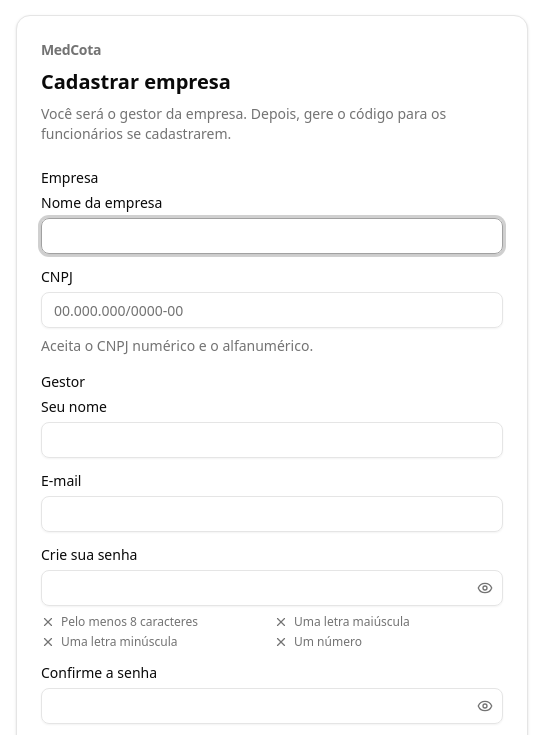
Cadastro de empresa › mostra no campo o erro devolvido pela API (CNPJ já cadastrado)
Type "Distribuidora Teste" into the field labelled "Nome da empresa".
click(272, 236); type("Distribuidora Teste")  # box [41,218,503,254]
Type "11.222.333/0001-81" into the field labelled "CNPJ".
click(272, 310); type("11.222.333/0001-81")  # box [41,292,503,328]
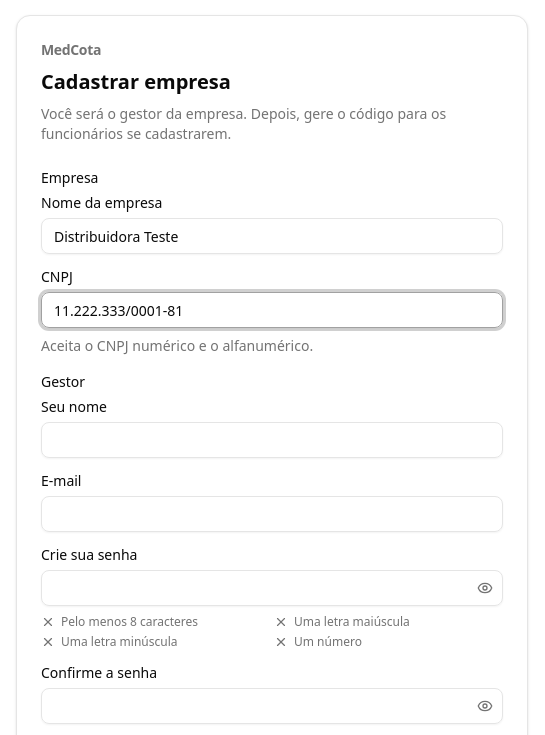
Type "Carla Prado" into the field labelled "Seu nome".
click(272, 440); type("Carla Prado")  # box [41,422,503,458]
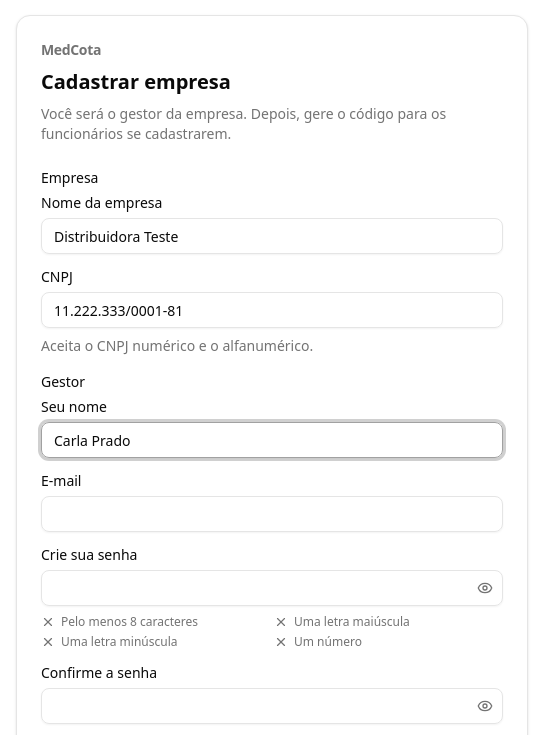
Type "carla@teste.com" into the field labelled "E-mail".
click(272, 514); type("carla@teste.com")  # box [41,496,503,532]
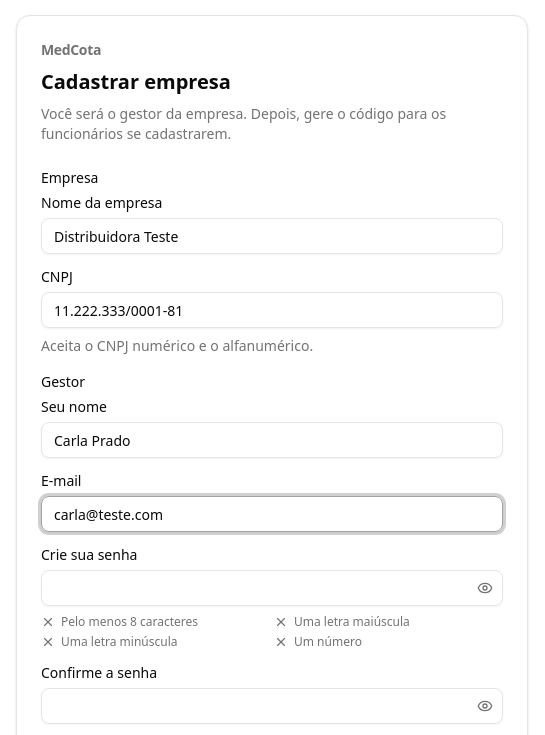
Type "Senha-forte-1" into the password field labelled "Crie sua senha".
click(272, 588); type("Senha-forte-1")  # box [41,570,503,606]
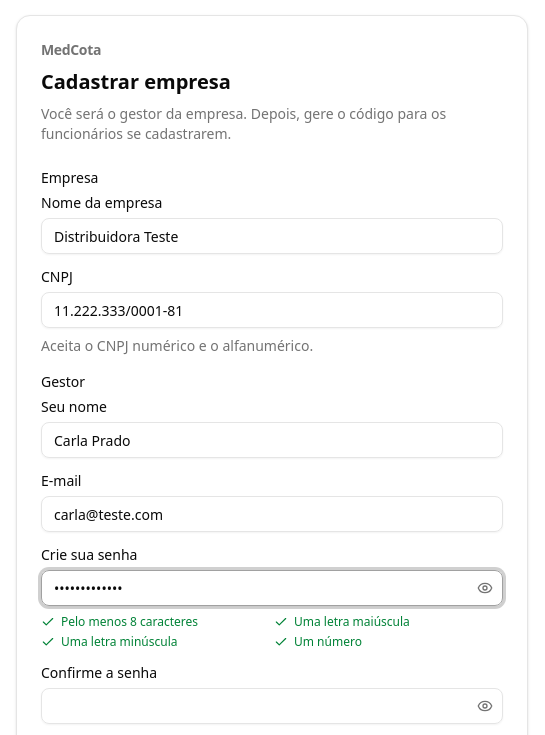
Type "Senha-forte-1" into the password field labelled "Confirme a senha".
click(272, 706); type("Senha-forte-1")  # box [41,688,503,724]
(page scrolled)
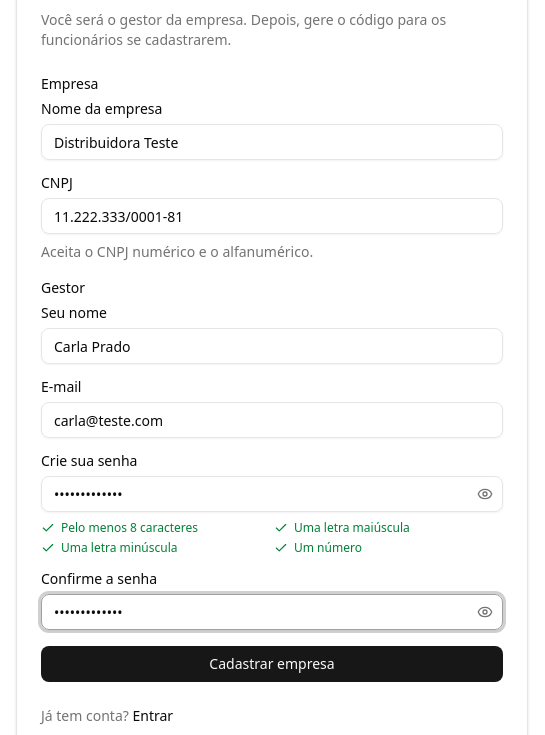
Click the button "Cadastrar empresa".
click(272, 664)  # box [41,646,503,682]
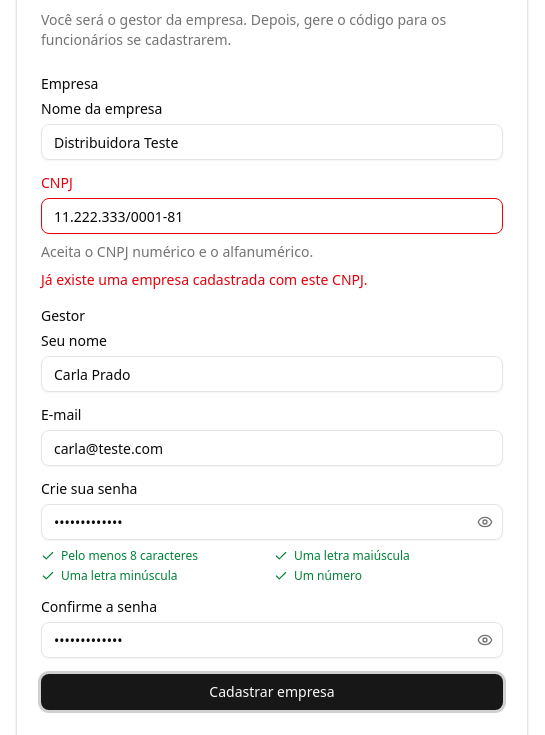
Expected: the text "Já existe uma empresa cadastrada com este CNPJ." is shown, [41,270,368,289]
